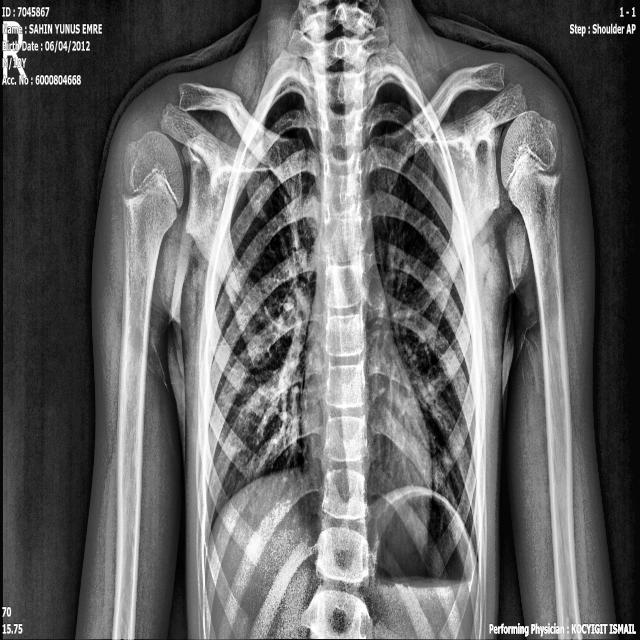Fracture: (220, 79, 244, 136)
